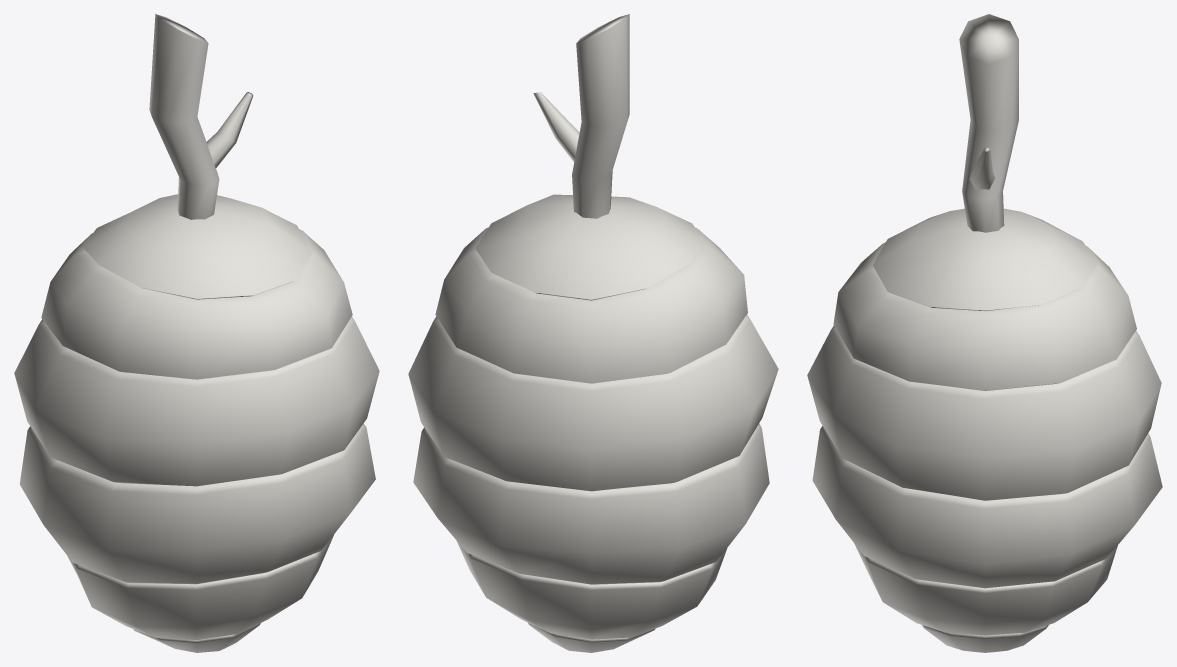
Rendered from Beehive.glb.
3 renders of one model, left to right at view 1: azimuth 30°, elevation 25°; view 2: azimuth 150°, elevation 25°; view 3: azimuth 270°, elevation 25°, orthographic. The views are drawn at different scales.
Parts seen in each view (by area): view 1: Standard.13, Standard.12; view 2: Standard.13, Standard.12; view 3: Standard.13, Standard.12.
Part boxes in pixels (x1,y1,x2,y2): Standard.13: [14, 194, 379, 652]; Standard.12: [149, 14, 253, 219]; Standard.13: [408, 194, 778, 652]; Standard.12: [533, 14, 629, 218]; Standard.13: [807, 208, 1162, 652]; Standard.12: [959, 14, 1018, 232].
Size of the model in its own units: 0.0127 by 0.024 by 0.0125.
Materials: 2 (2 with a texture image).
